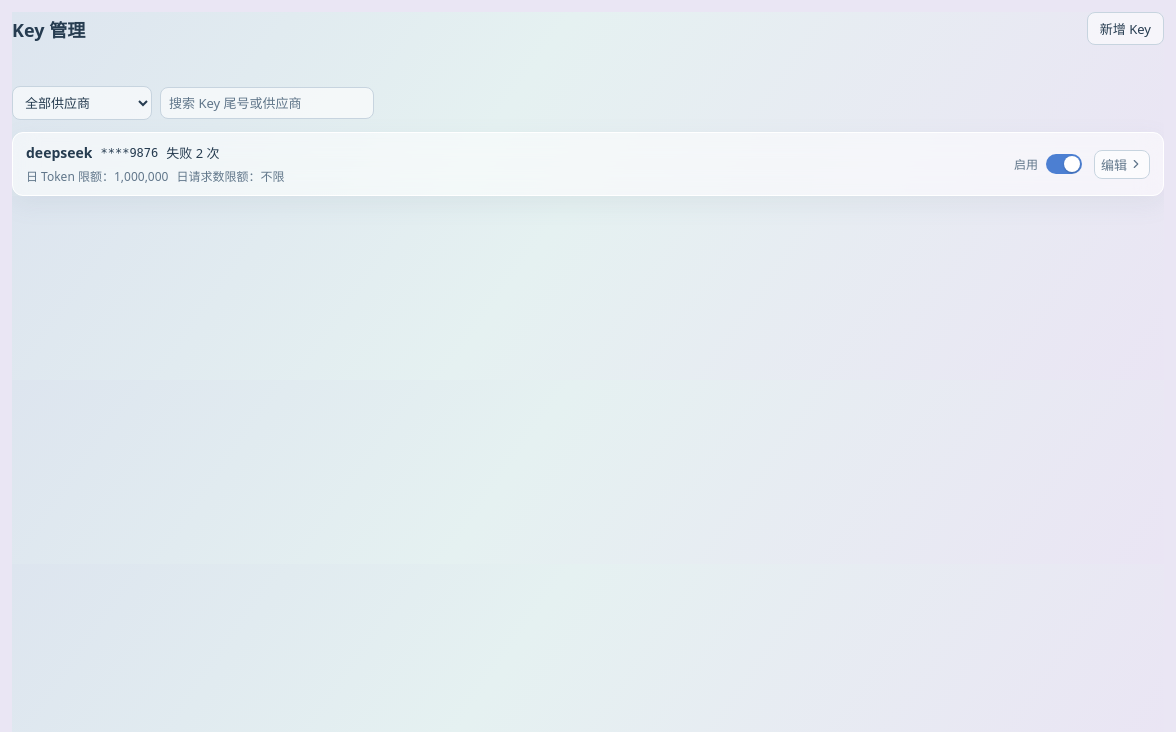
Test case: KeysPanel（列表态：卡片宽行，reference） › toggles a key via the row switch without opening the edit page
Step 1. Click the checkbox named "停用" → [1064, 164], box top-left (1046, 154), bottom-right (1082, 174)
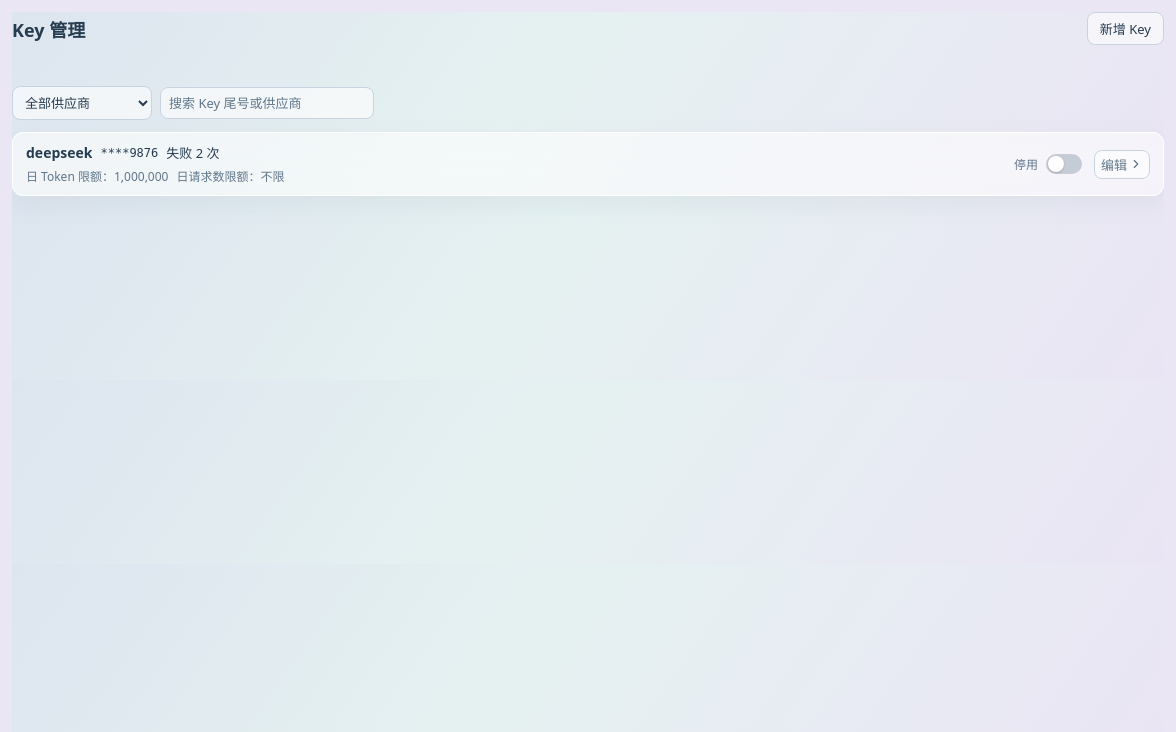
Now the checkbox named "启用" is not checked, box top-left (1046, 154), bottom-right (1082, 174)
